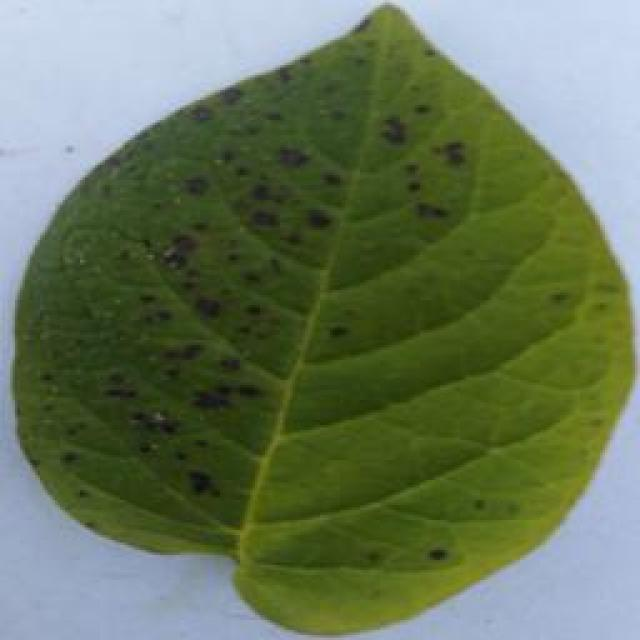Potato_Early_Blight: (21, 21, 616, 608)
